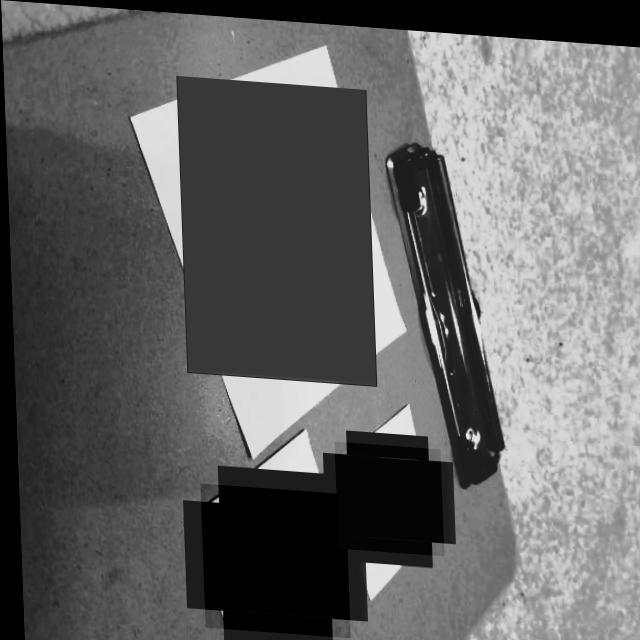qr_code: (176, 74, 372, 381), (196, 481, 345, 633), (330, 437, 439, 550)
